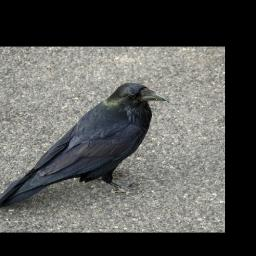Crow: (0, 82, 170, 211)
